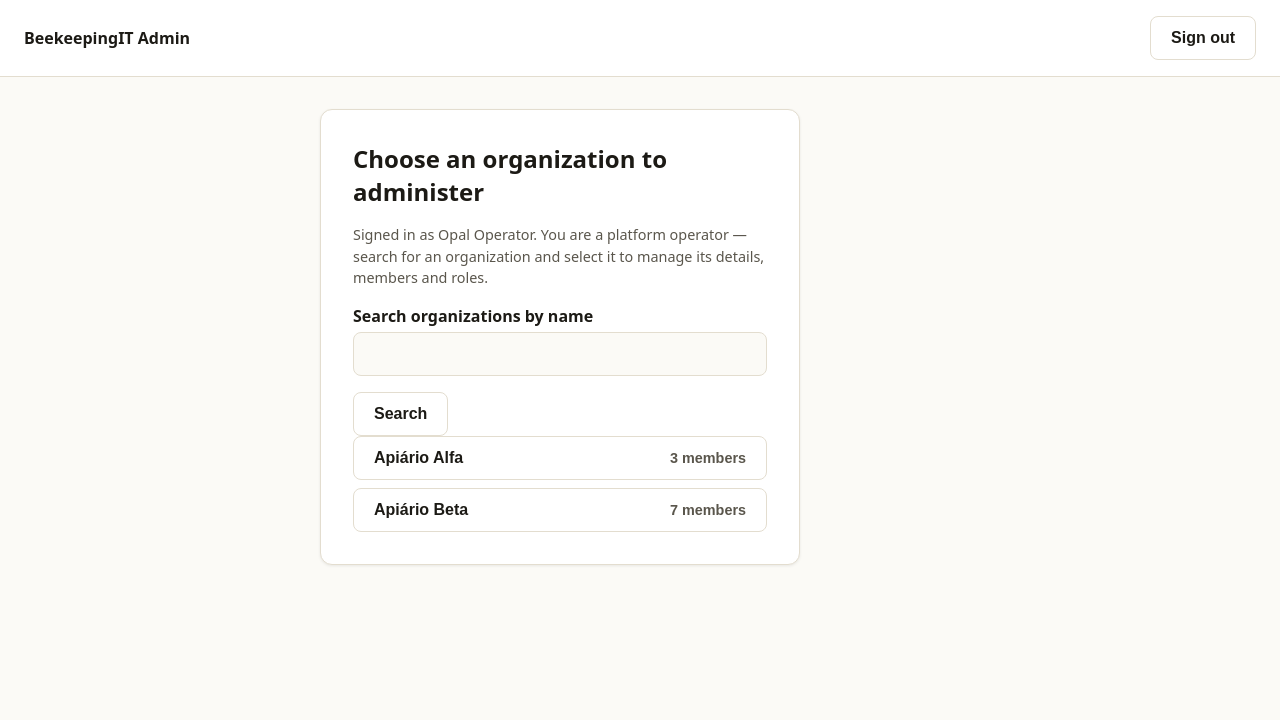
Test: AdminGuard › platform operator (#469, D-32) › switching organizations returns the operator to the picker
Click the button "Apiário Beta 7 members".
click(421, 510)  # box [353,488,767,532]
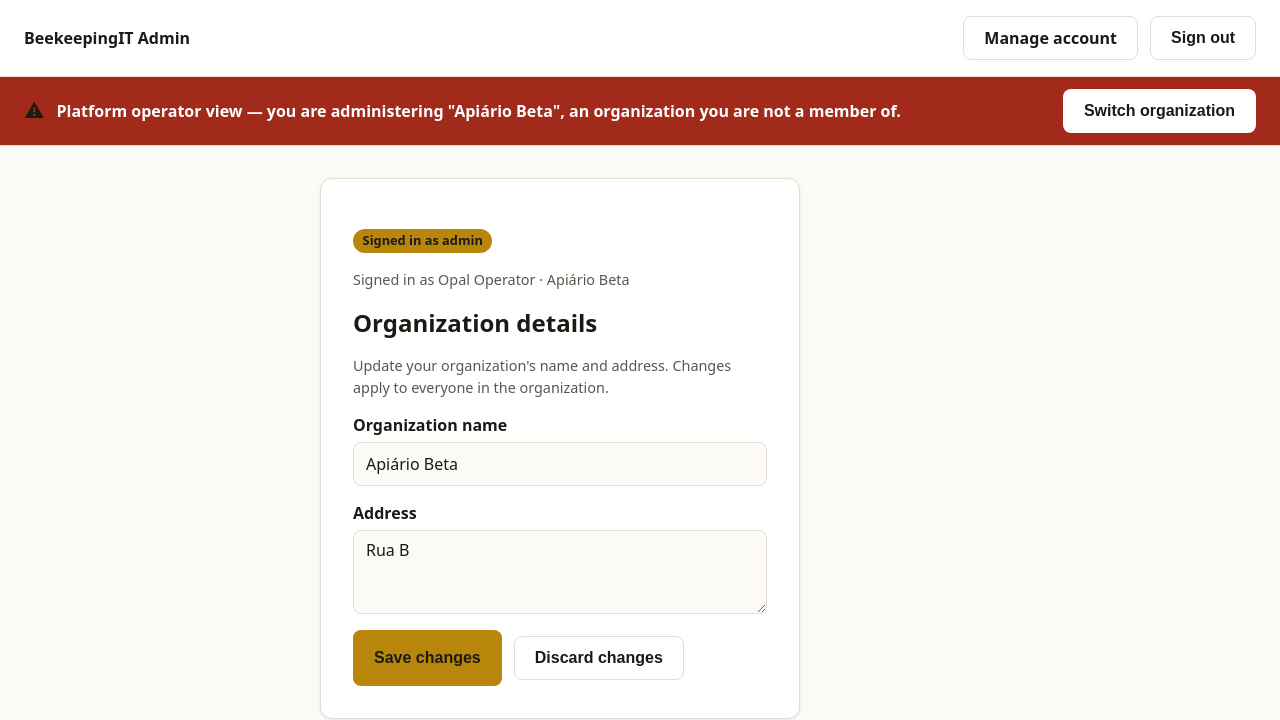
Result: the text "Platform operator view" is shown at [56,100,901,122]
Click the button "Switch organization".
click(1159, 111)  # box [1063,89,1256,133]
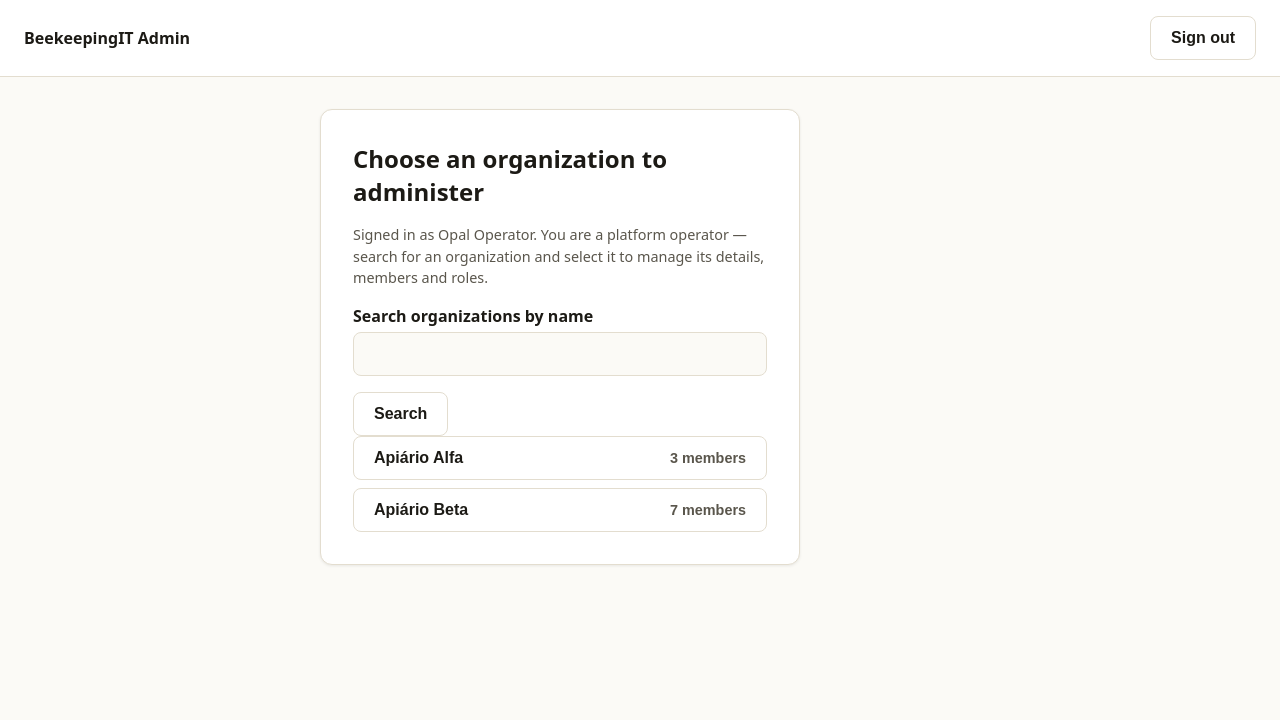
Result: the heading "Choose an organization to administer" is shown at [353,142,667,208]
